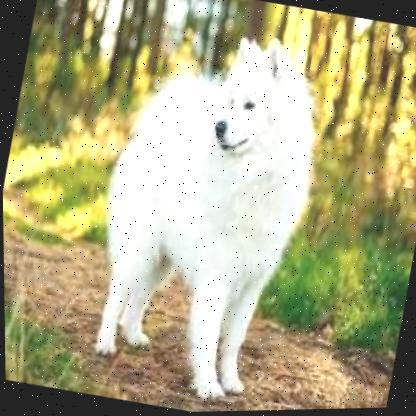dog: (69, 7, 345, 414)
